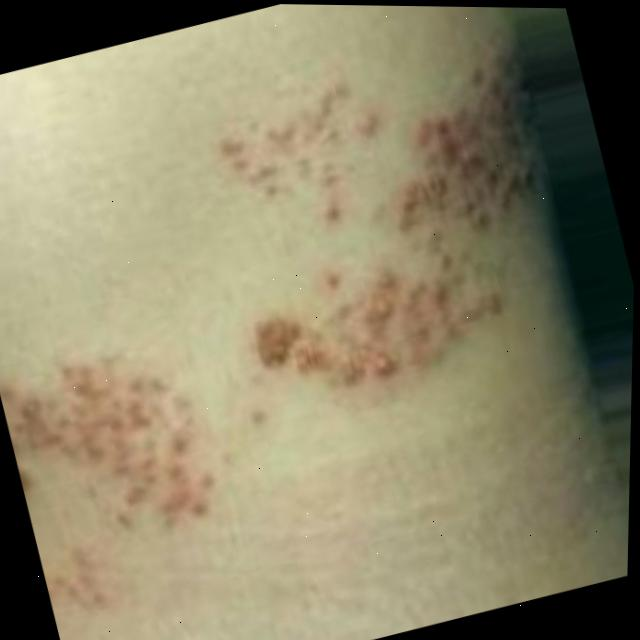Shingles: (178, 28, 599, 447), (0, 324, 252, 619)
